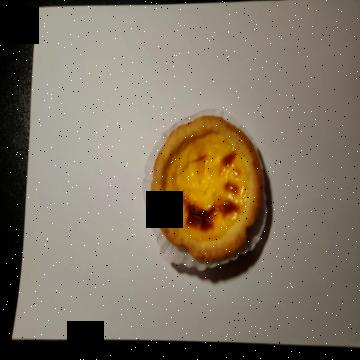EggTart: (150, 115, 264, 261)
